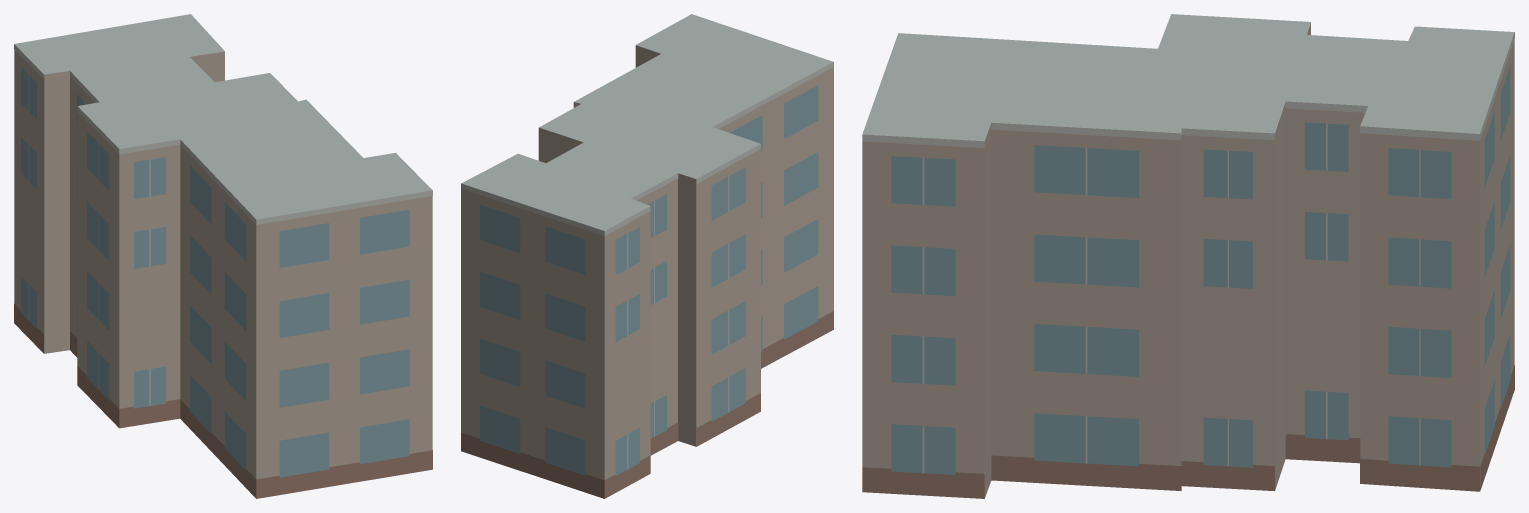
The model's file is survey-upis-32629956.glb.
3 views of the same model, side by side, from view 1: azimuth 30°, elevation 25°; view 2: azimuth 150°, elevation 25°; view 3: azimuth 270°, elevation 25° (orthographic). The views are drawn at different scales.
Parts seen in each view (by area): view 1: survey-upis-32629956.tmp; view 2: survey-upis-32629956.tmp; view 3: survey-upis-32629956.tmp.
Part boxes in pixels (x1,y1,x2,y2): survey-upis-32629956.tmp: [14, 14, 432, 498]; survey-upis-32629956.tmp: [461, 14, 833, 498]; survey-upis-32629956.tmp: [862, 14, 1514, 498].
Size of the model in its own units: 9.7 by 12.7 by 21.01.
